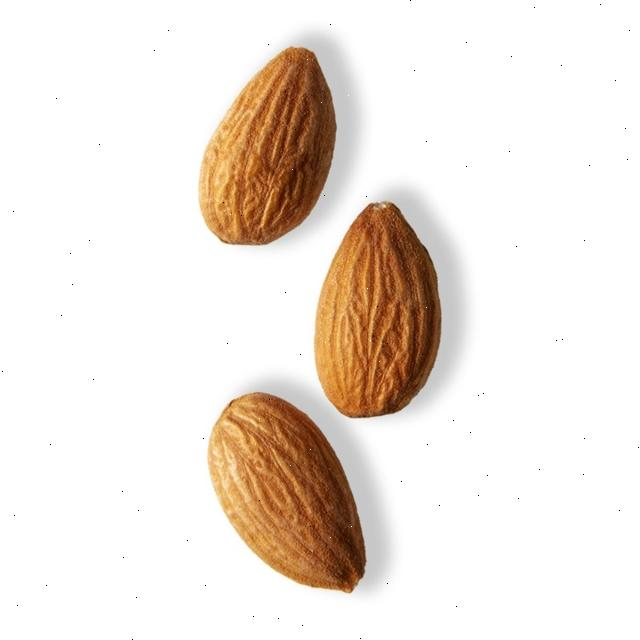kayisicekirdegi: (206, 393, 367, 596), (313, 202, 444, 421), (197, 47, 338, 249)
